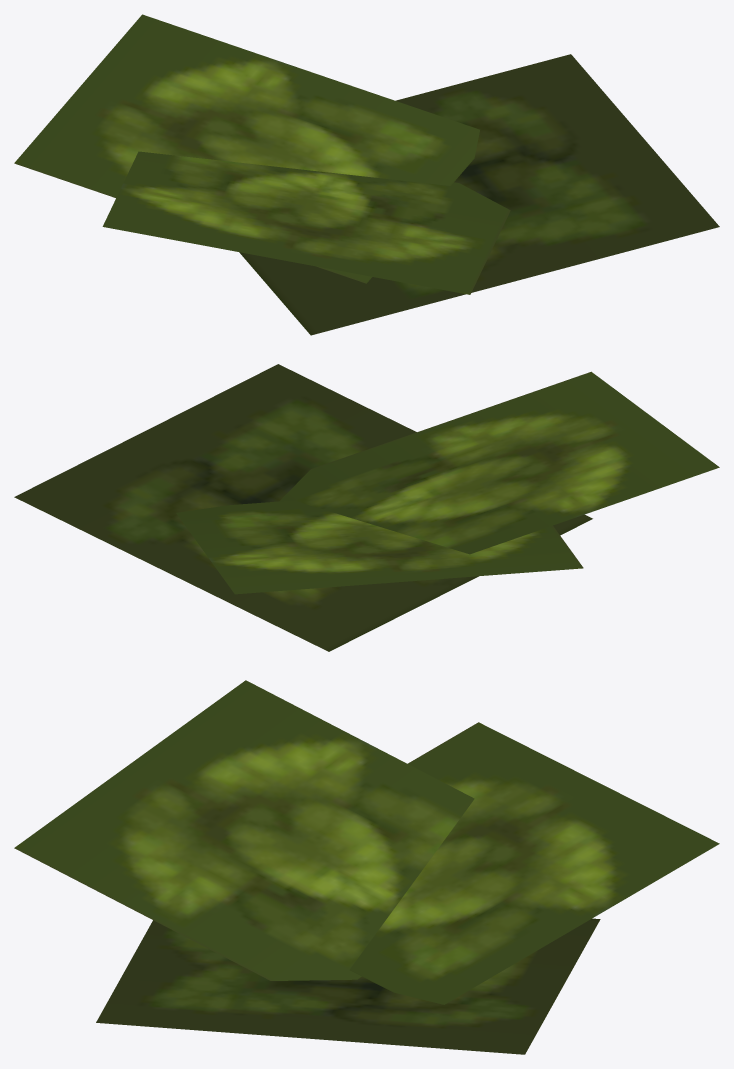
The model's file is dec_Short_Bush_08_19428.glb.
3 views of the same model, one above another, from view 1: azimuth 30°, elevation 25°; view 2: azimuth 150°, elevation 25°; view 3: azimuth 270°, elevation 25° (orthographic). The views are drawn at different scales.
Parts seen in each view (by area): view 1: Short_Bush_08_mesh; view 2: Short_Bush_08_mesh; view 3: Short_Bush_08_mesh.
Part boxes in pixels (left/top/right/bottom): Short_Bush_08_mesh: left=14, top=14, right=719, bottom=335; Short_Bush_08_mesh: left=14, top=364, right=719, bottom=651; Short_Bush_08_mesh: left=14, top=680, right=719, bottom=1054.
Size of the model in its own units: 0.673 by 0.1304 by 0.6762.
Materials: 1 (1 with a texture image).
